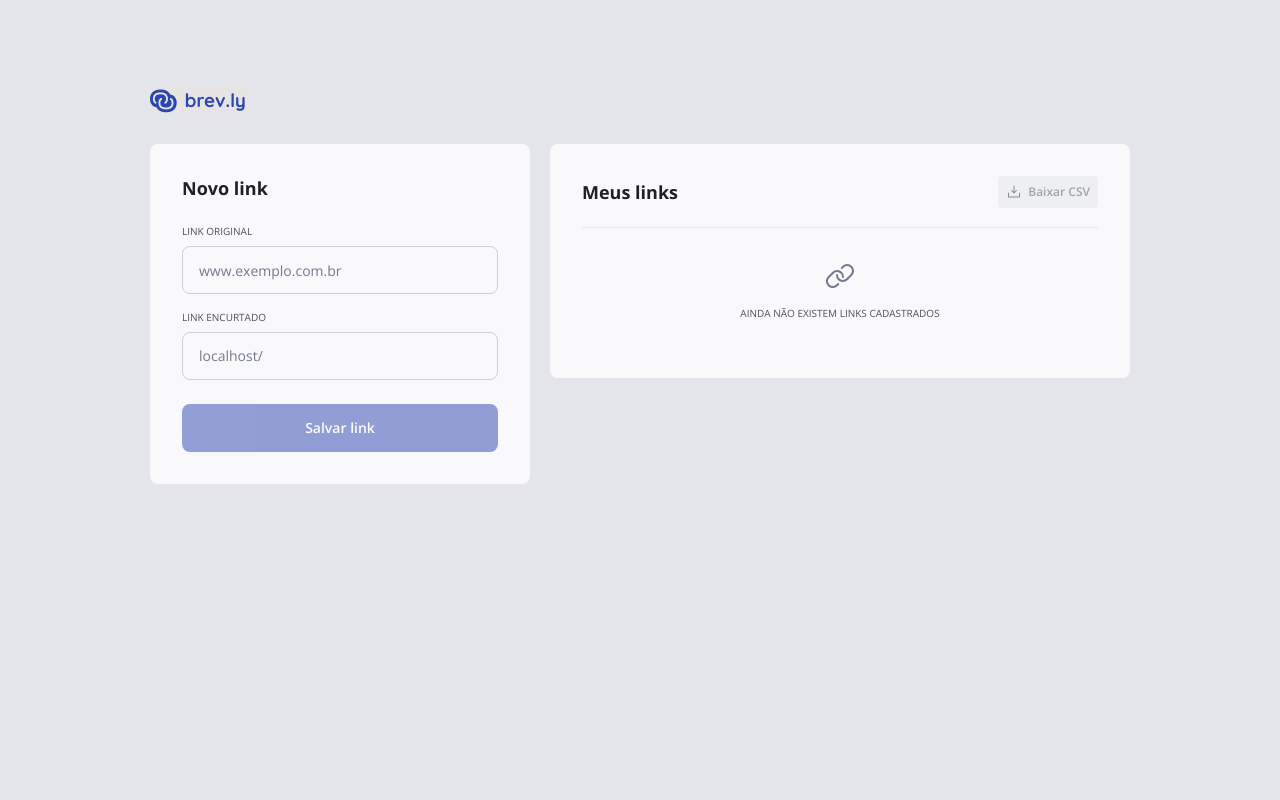
Scenario: Página inicial › cria um link, atualiza a listagem e limpa o formulário
Type "https://example.com/curso" into the field labelled "Link original". click: (340, 270)
box: [182, 246, 498, 294]
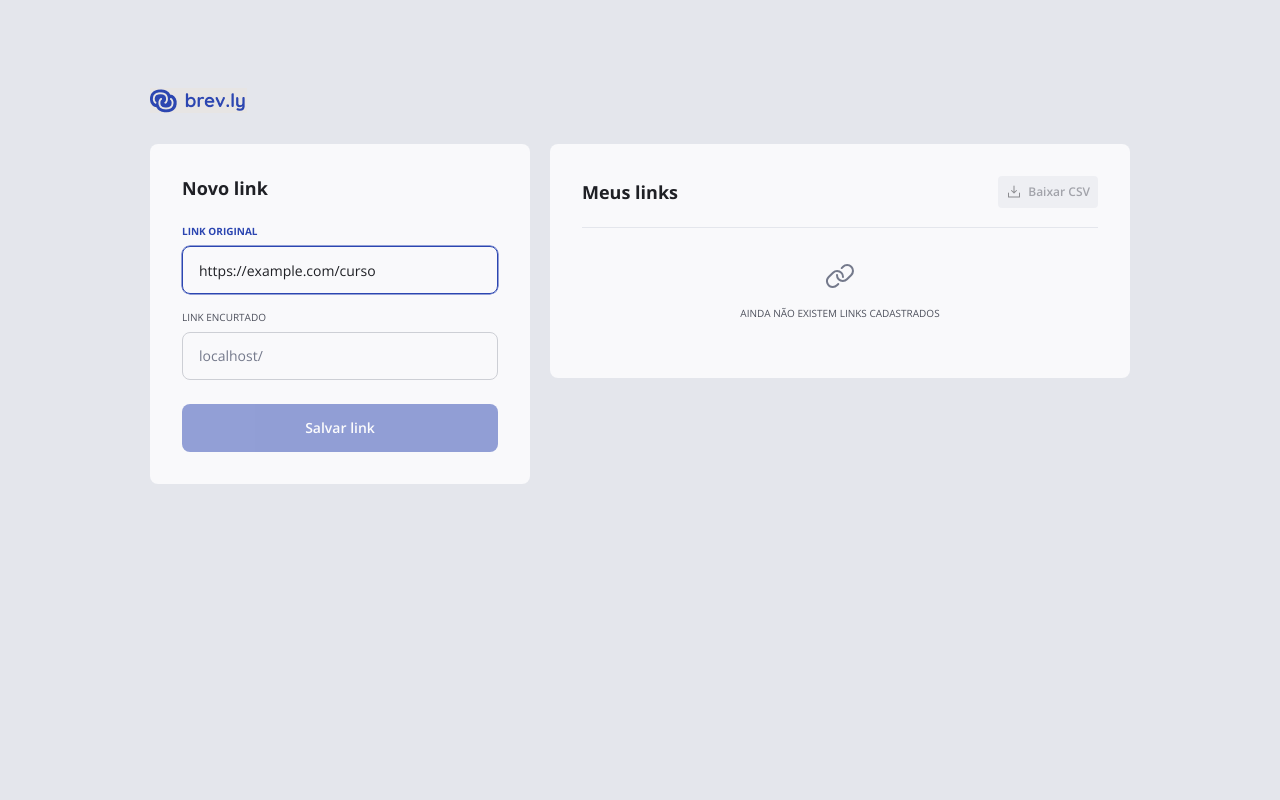
Type "curso" into the field labelled "Link encurtado". click: (380, 356)
box: [263, 333, 497, 379]
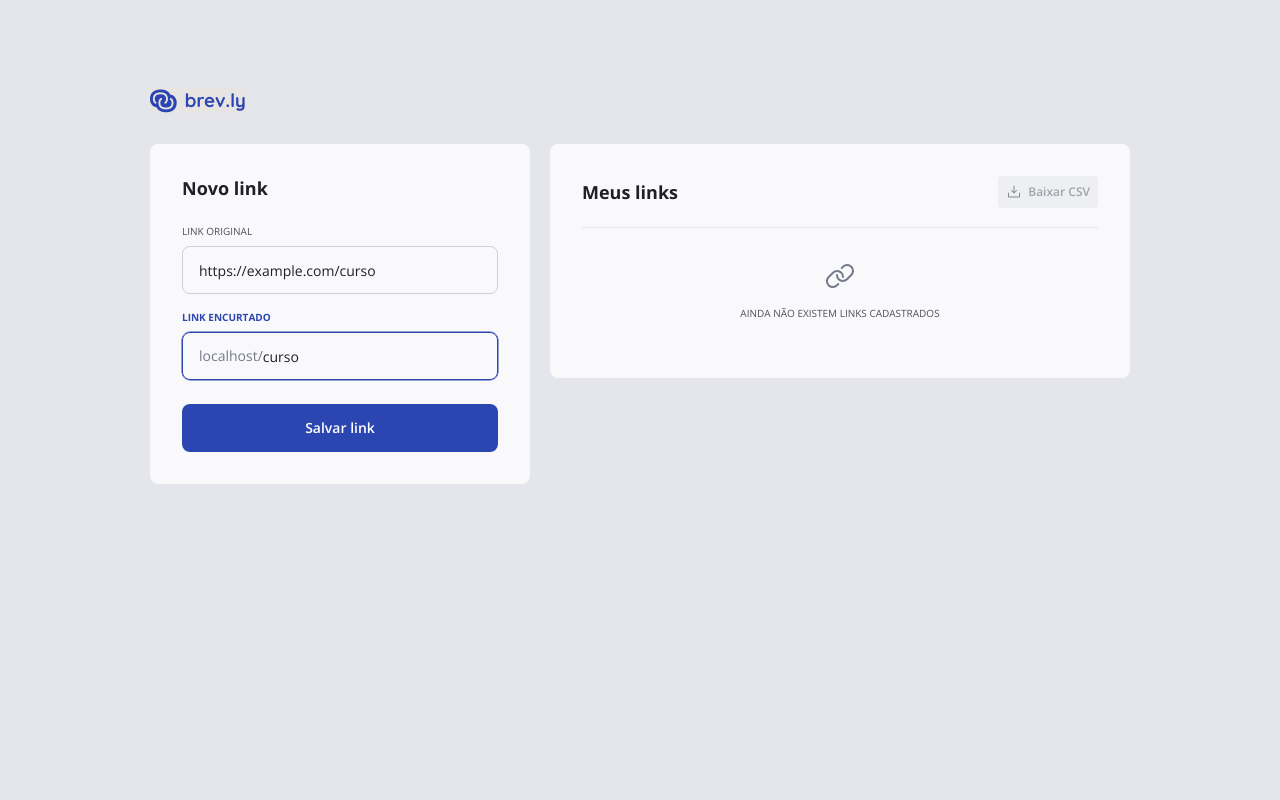
Click the button "Salvar link". click: (340, 428)
box: [182, 404, 498, 452]
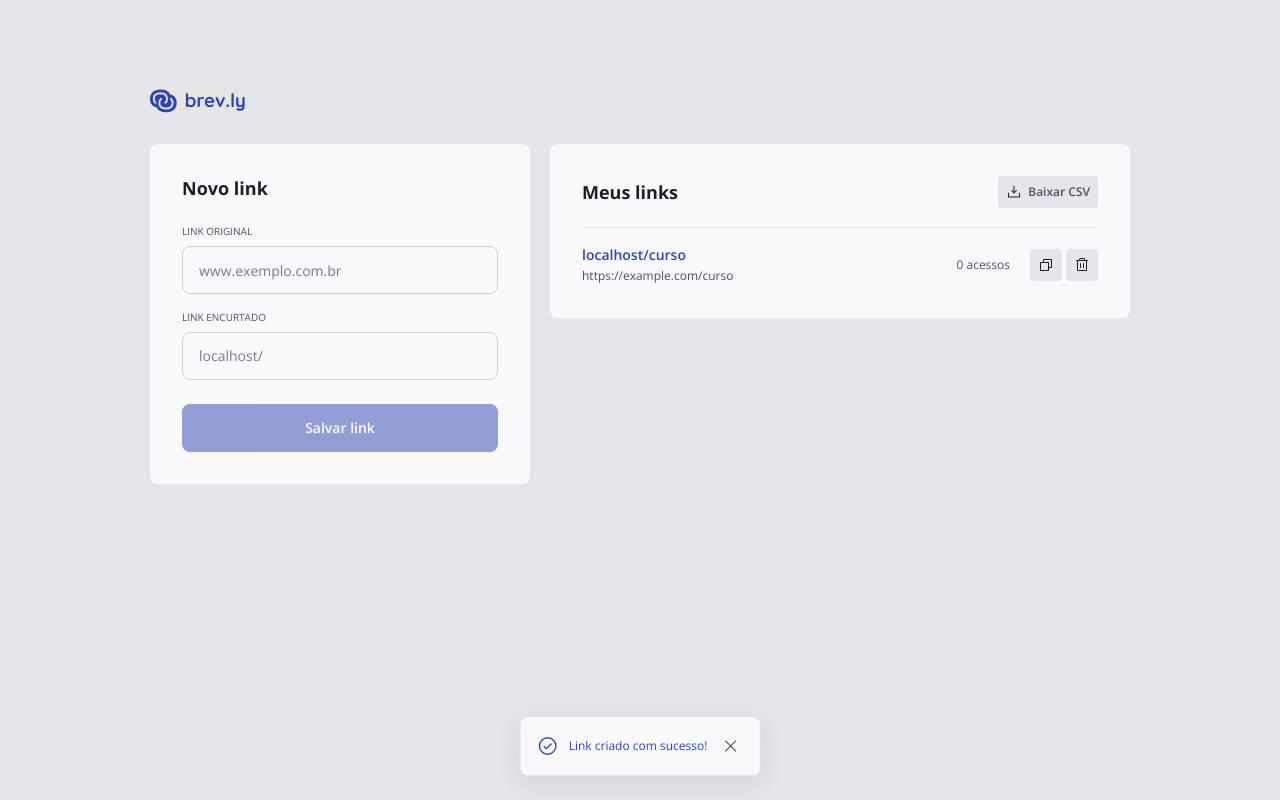
Expected: the text "Link criado com sucesso!" is shown, [569, 737, 707, 755]
Expected: the link "localhost/curso" is shown, [582, 245, 686, 264]
Expected: the field labelled "Link original" is empty, [182, 246, 498, 294]
